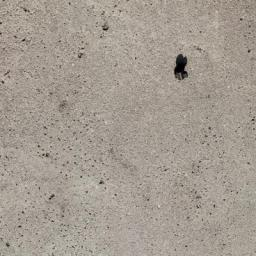FOD: (172, 50, 195, 88)
